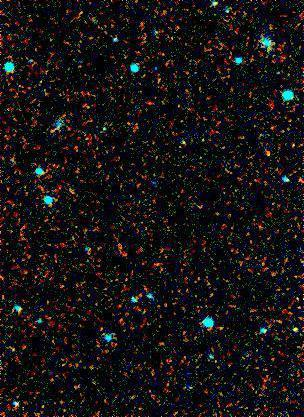star: (277, 312, 304, 342)
